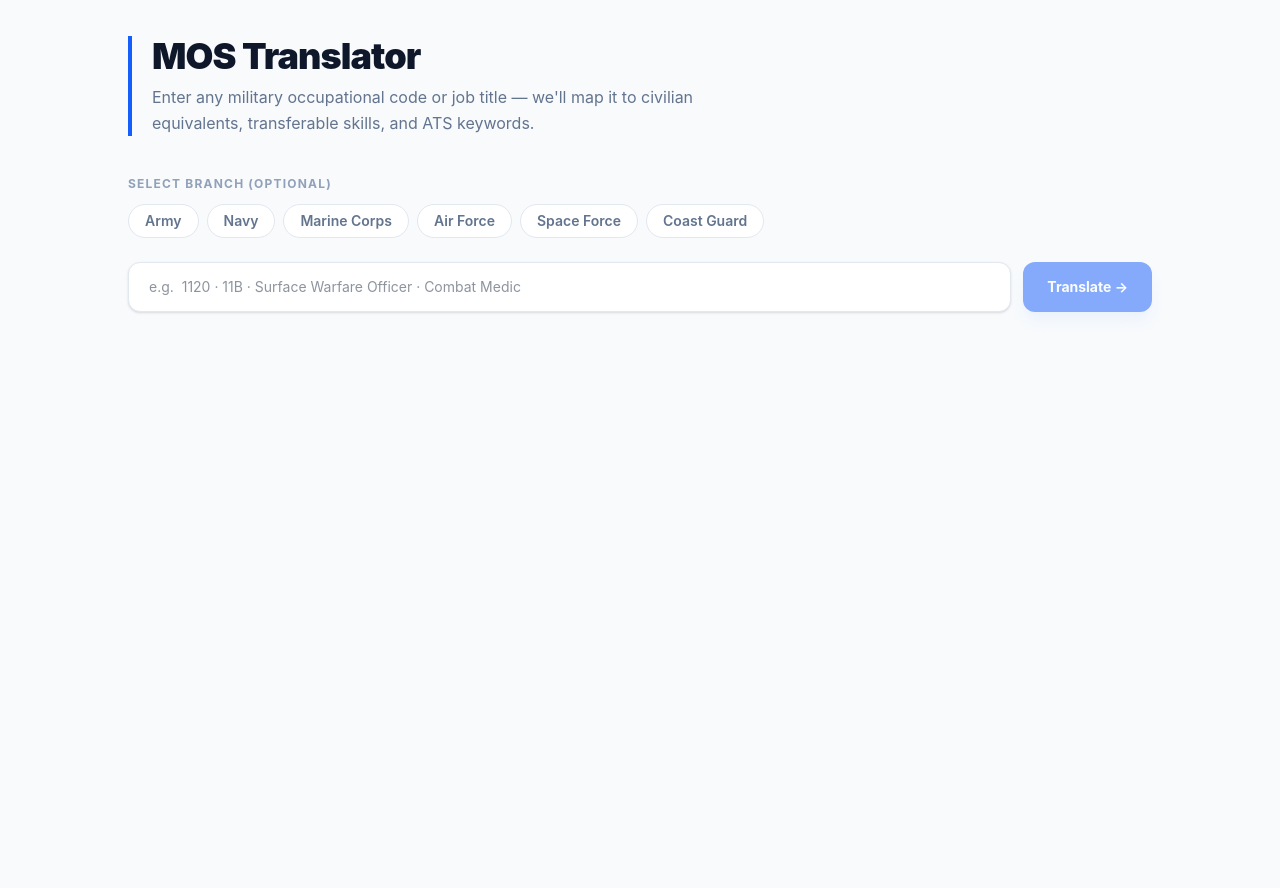
Test case: TranslatorPage › clears the result when "Translate another" is clicked
The image size is (1280, 888).
Type "11B" into the field. click: point(570, 287)
box: [128, 262, 1011, 312]
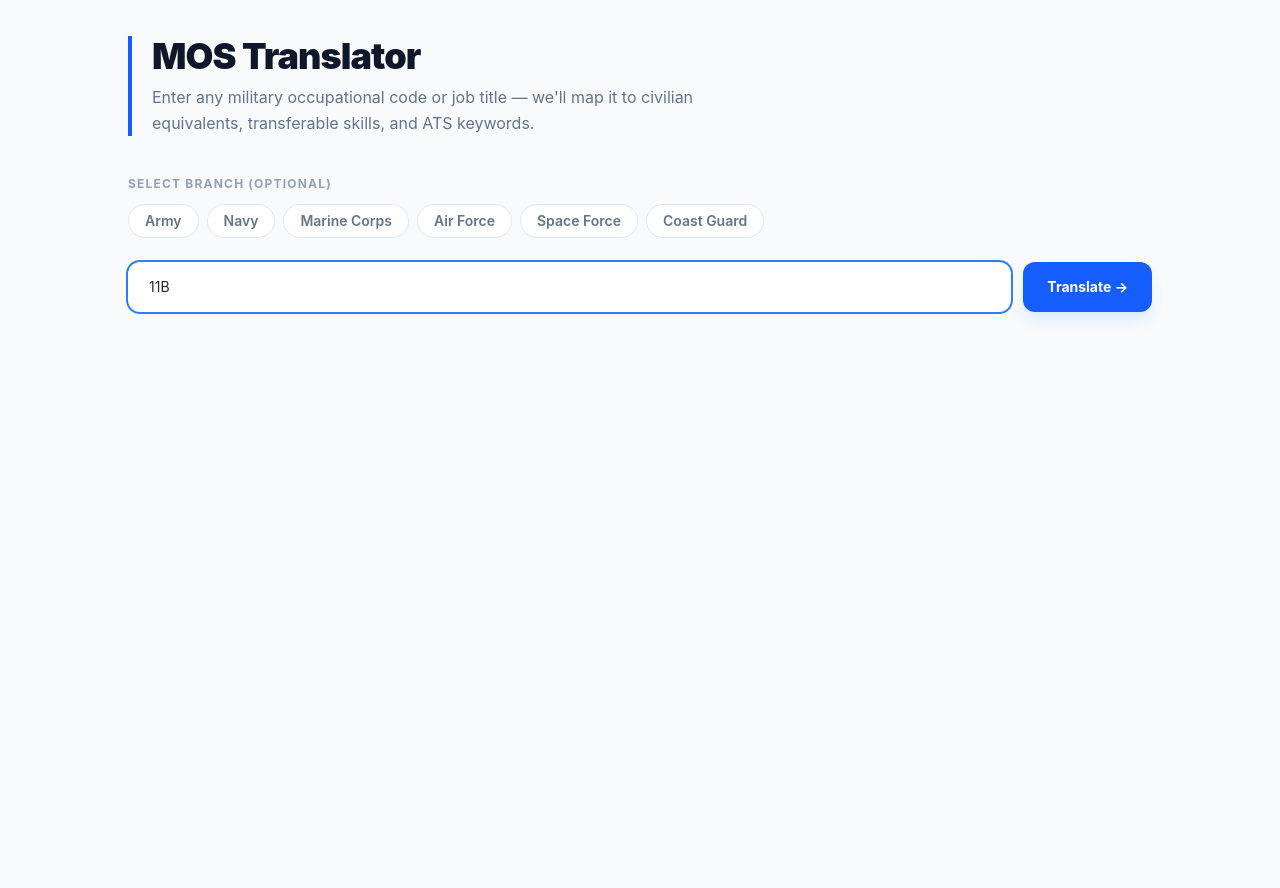
Click the button "Translate →". click: point(1088, 287)
box: [1023, 262, 1152, 312]
(page scrolled)
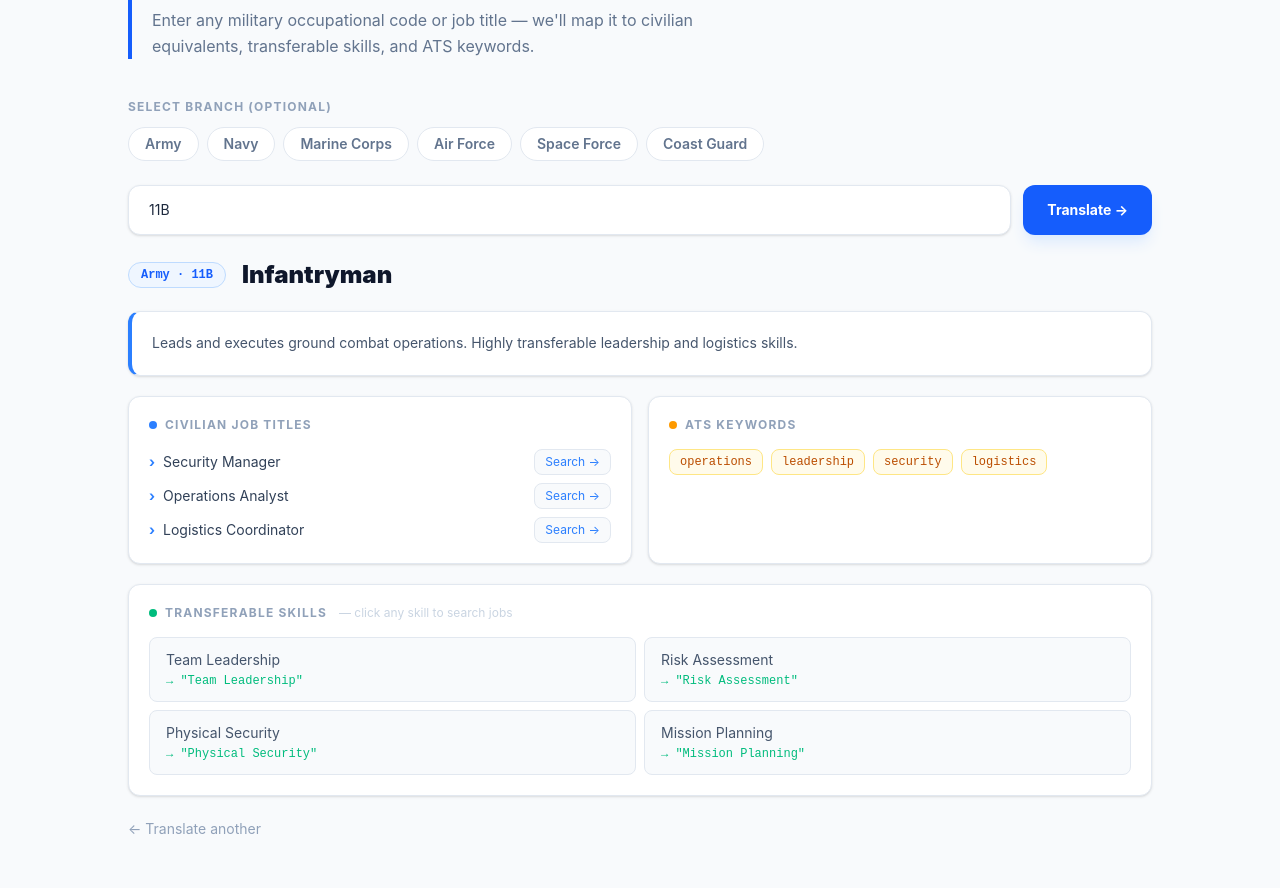
Now the heading "Infantryman" is shown, box [242, 259, 392, 291]
Click the button "← Translate another". click: point(194, 829)
box: [128, 819, 261, 839]
(page scrolled)
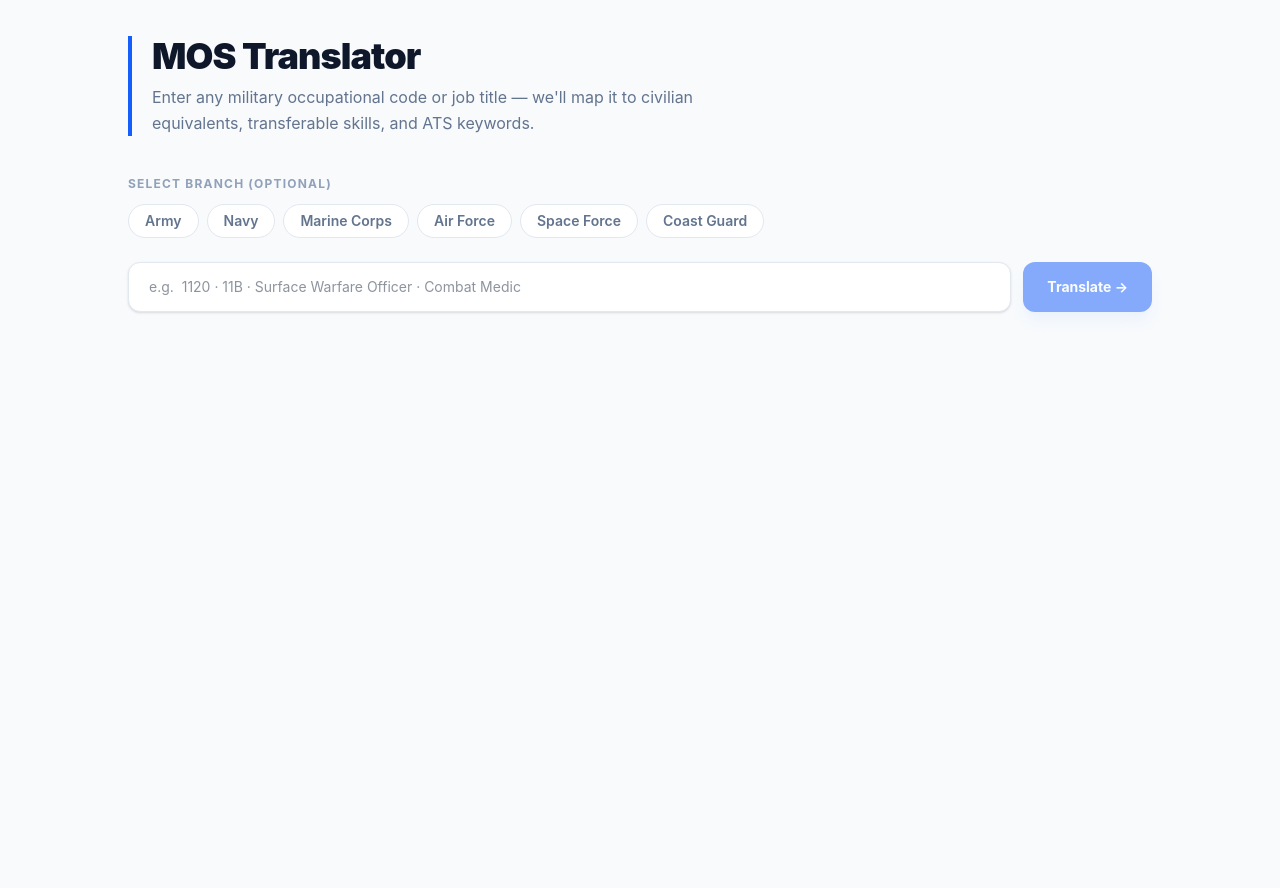
Now the heading "Infantryman" is gone
